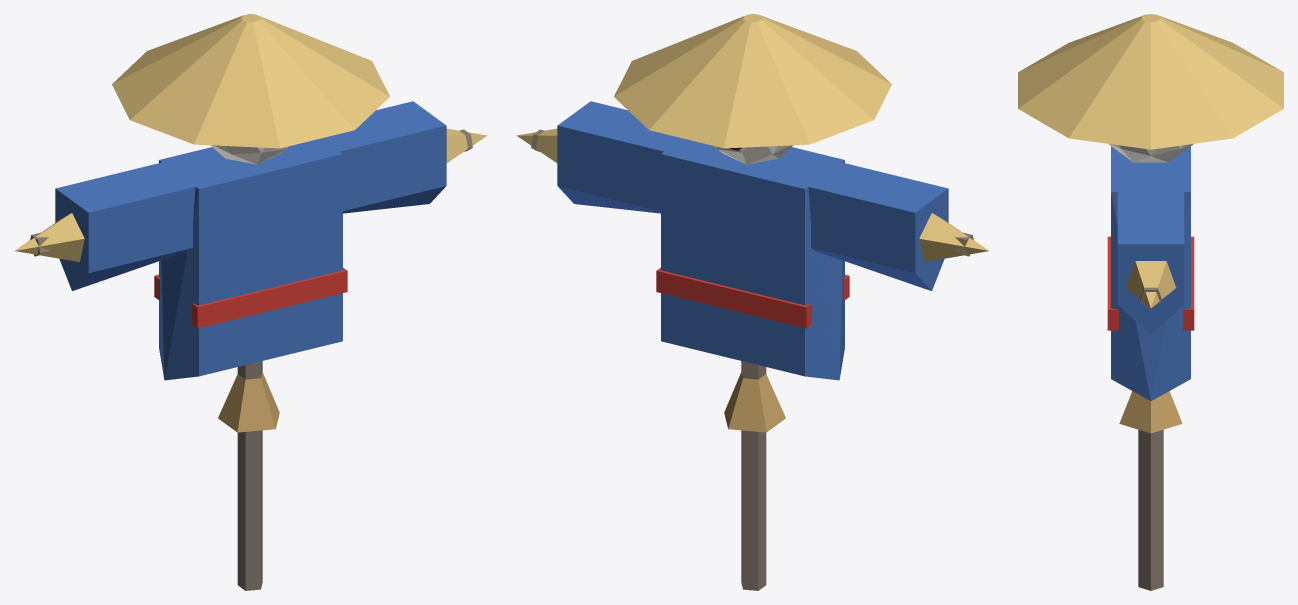
File: scarecrow.glb
The picture shows the model from 3 angles, left to right: view 1: azimuth 30°, elevation 25°; view 2: azimuth 150°, elevation 25°; view 3: azimuth 270°, elevation 25°; orthographic projection.
Parts seen in each view (by area): view 1: scarecrow; view 2: scarecrow; view 3: scarecrow.
Part boxes in pixels (bbox=[...]): scarecrow: bbox=[15, 14, 487, 590]; scarecrow: bbox=[516, 14, 988, 590]; scarecrow: bbox=[1018, 14, 1283, 590].
Bounding box in the file's own units: 1.64 × 1.88 × 0.7989.
